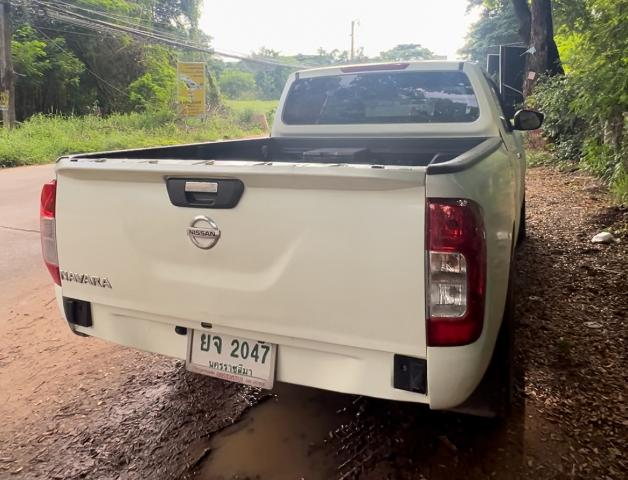pickup-truck: (40, 54, 555, 430)
